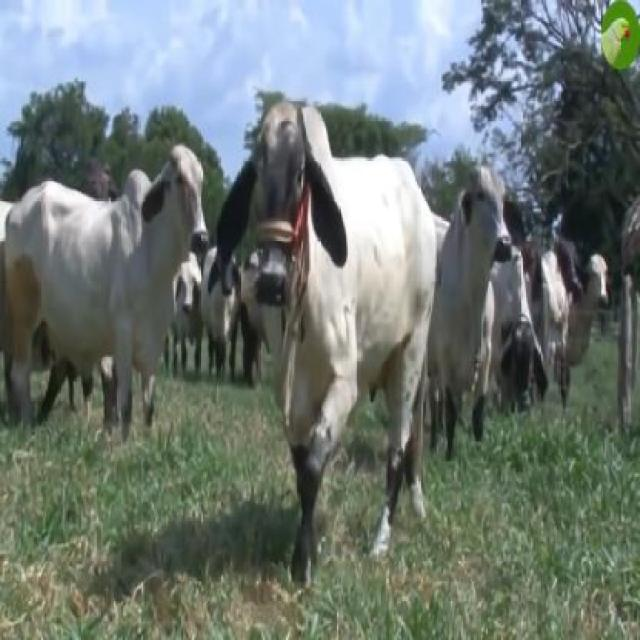Cow: (215, 99, 437, 566), (6, 145, 211, 443), (432, 163, 518, 435)
